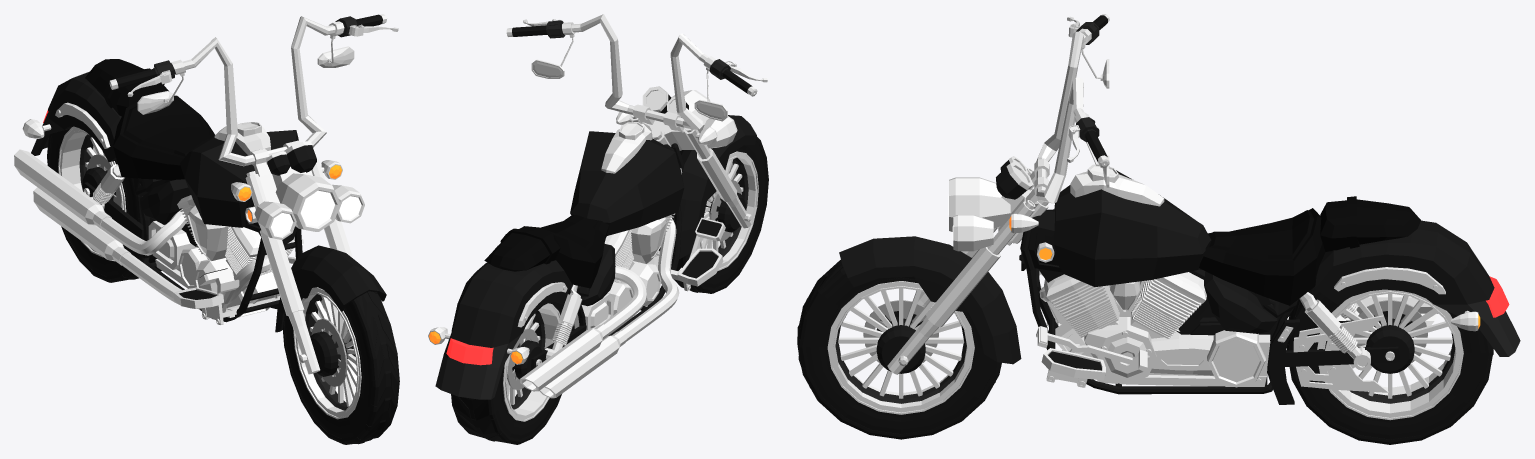
File: low-poly_motorcycle_lifanv16.glb
3 views of the same model, side by side, from view 1: azimuth 30°, elevation 25°; view 2: azimuth 150°, elevation 25°; view 3: azimuth 270°, elevation 25° (orthographic). The views are drawn at different scales.
Visible parts, largest first — view 1: Object_15, Object_11, Object_13, Object_3, Object_7, Object_9, Object_12, Object_10, Object_5, Object_6, Object_8, Object_4; view 2: Object_15, Object_13, Object_11, Object_3, Object_7, Object_10, Object_6, Object_12, Object_9, Object_5, Object_4, Object_2; view 3: Object_15, Object_13, Object_11, Object_12, Object_7, Object_9, Object_10, Object_3, Object_5, Object_6, Object_4.
Boxes of the visible parts, x1,y1,x2,y2 form: Object_15: (48,71,386,376); Object_11: (22,14,386,363); Object_13: (55,26,398,419); Object_3: (14,21,364,374); Object_7: (85,59,214,179); Object_9: (282,282,399,444); Object_12: (119,195,357,406); Object_10: (47,14,382,299); Object_5: (84,182,302,322); Object_6: (31,16,357,410); Object_8: (270,190,361,236); Object_4: (87,154,347,386); Object_15: (451,94,756,379); Object_13: (503,19,767,421); Object_11: (428,14,757,364); Object_3: (520,19,751,398); Object_7: (484,214,608,288); Object_10: (451,25,752,444); Object_6: (435,20,748,409); Object_12: (604,159,743,341); Object_9: (671,137,768,293); Object_5: (530,143,684,370); Object_4: (507,180,741,390); Object_2: (446,338,493,365); Object_15: (839,160,1494,373); Object_13: (827,16,1463,420); Object_11: (898,14,1478,387); Object_12: (838,272,1293,398); Object_7: (1199,196,1420,305); Object_9: (797,259,1001,439); Object_10: (1019,15,1493,444); Object_3: (887,23,1437,387); Object_5: (1020,209,1400,404); Object_6: (835,22,1520,403); Object_4: (863,300,1427,362).
Bounding box in the file's own units: 1.15 × 1.4 × 2.41.
